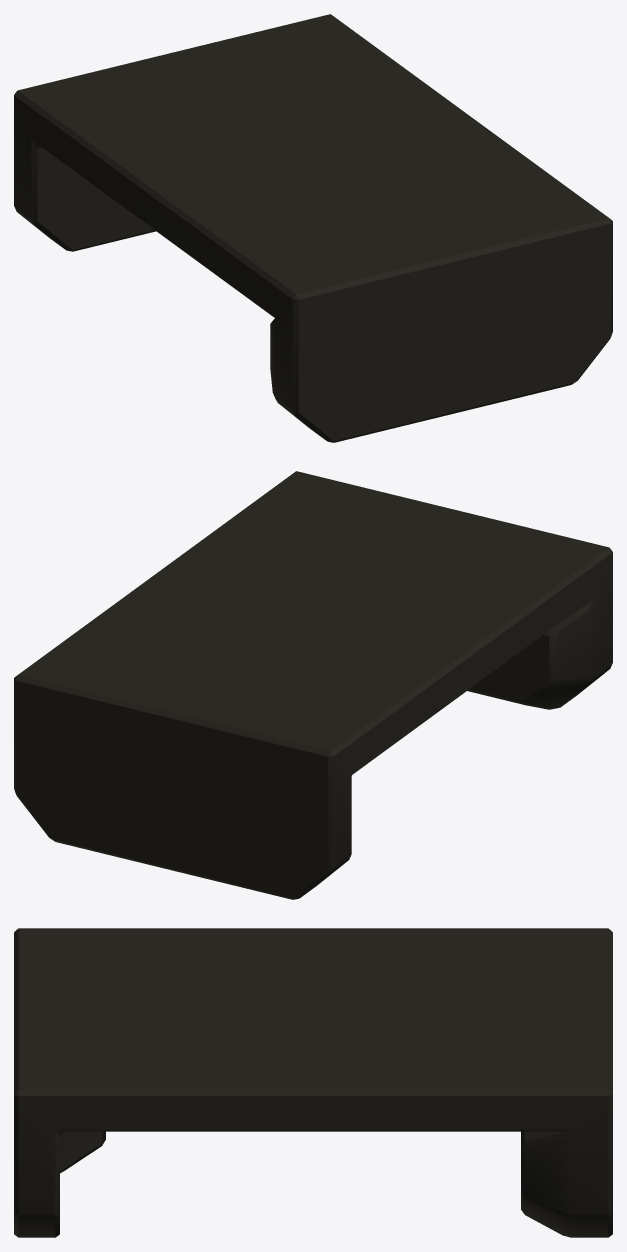
File: BatteryCompartment.fbx
The picture shows the model from 3 angles, top to bottom: view 1: azimuth 30°, elevation 25°; view 2: azimuth 150°, elevation 25°; view 3: azimuth 270°, elevation 25°; orthographic projection. The views are drawn at different scales.
Visible parts, largest first — view 1: BatteryCompartment; view 2: BatteryCompartment; view 3: BatteryCompartment.
Boxes of the visible parts, x1=… form: BatteryCompartment: x1=14, y1=14, x2=612, y2=442; BatteryCompartment: x1=14, y1=471, x2=612, y2=899; BatteryCompartment: x1=14, y1=928, x2=612, y2=1237.
Bounding box in the file's own units: 4.25 × 2 × 6.5.
